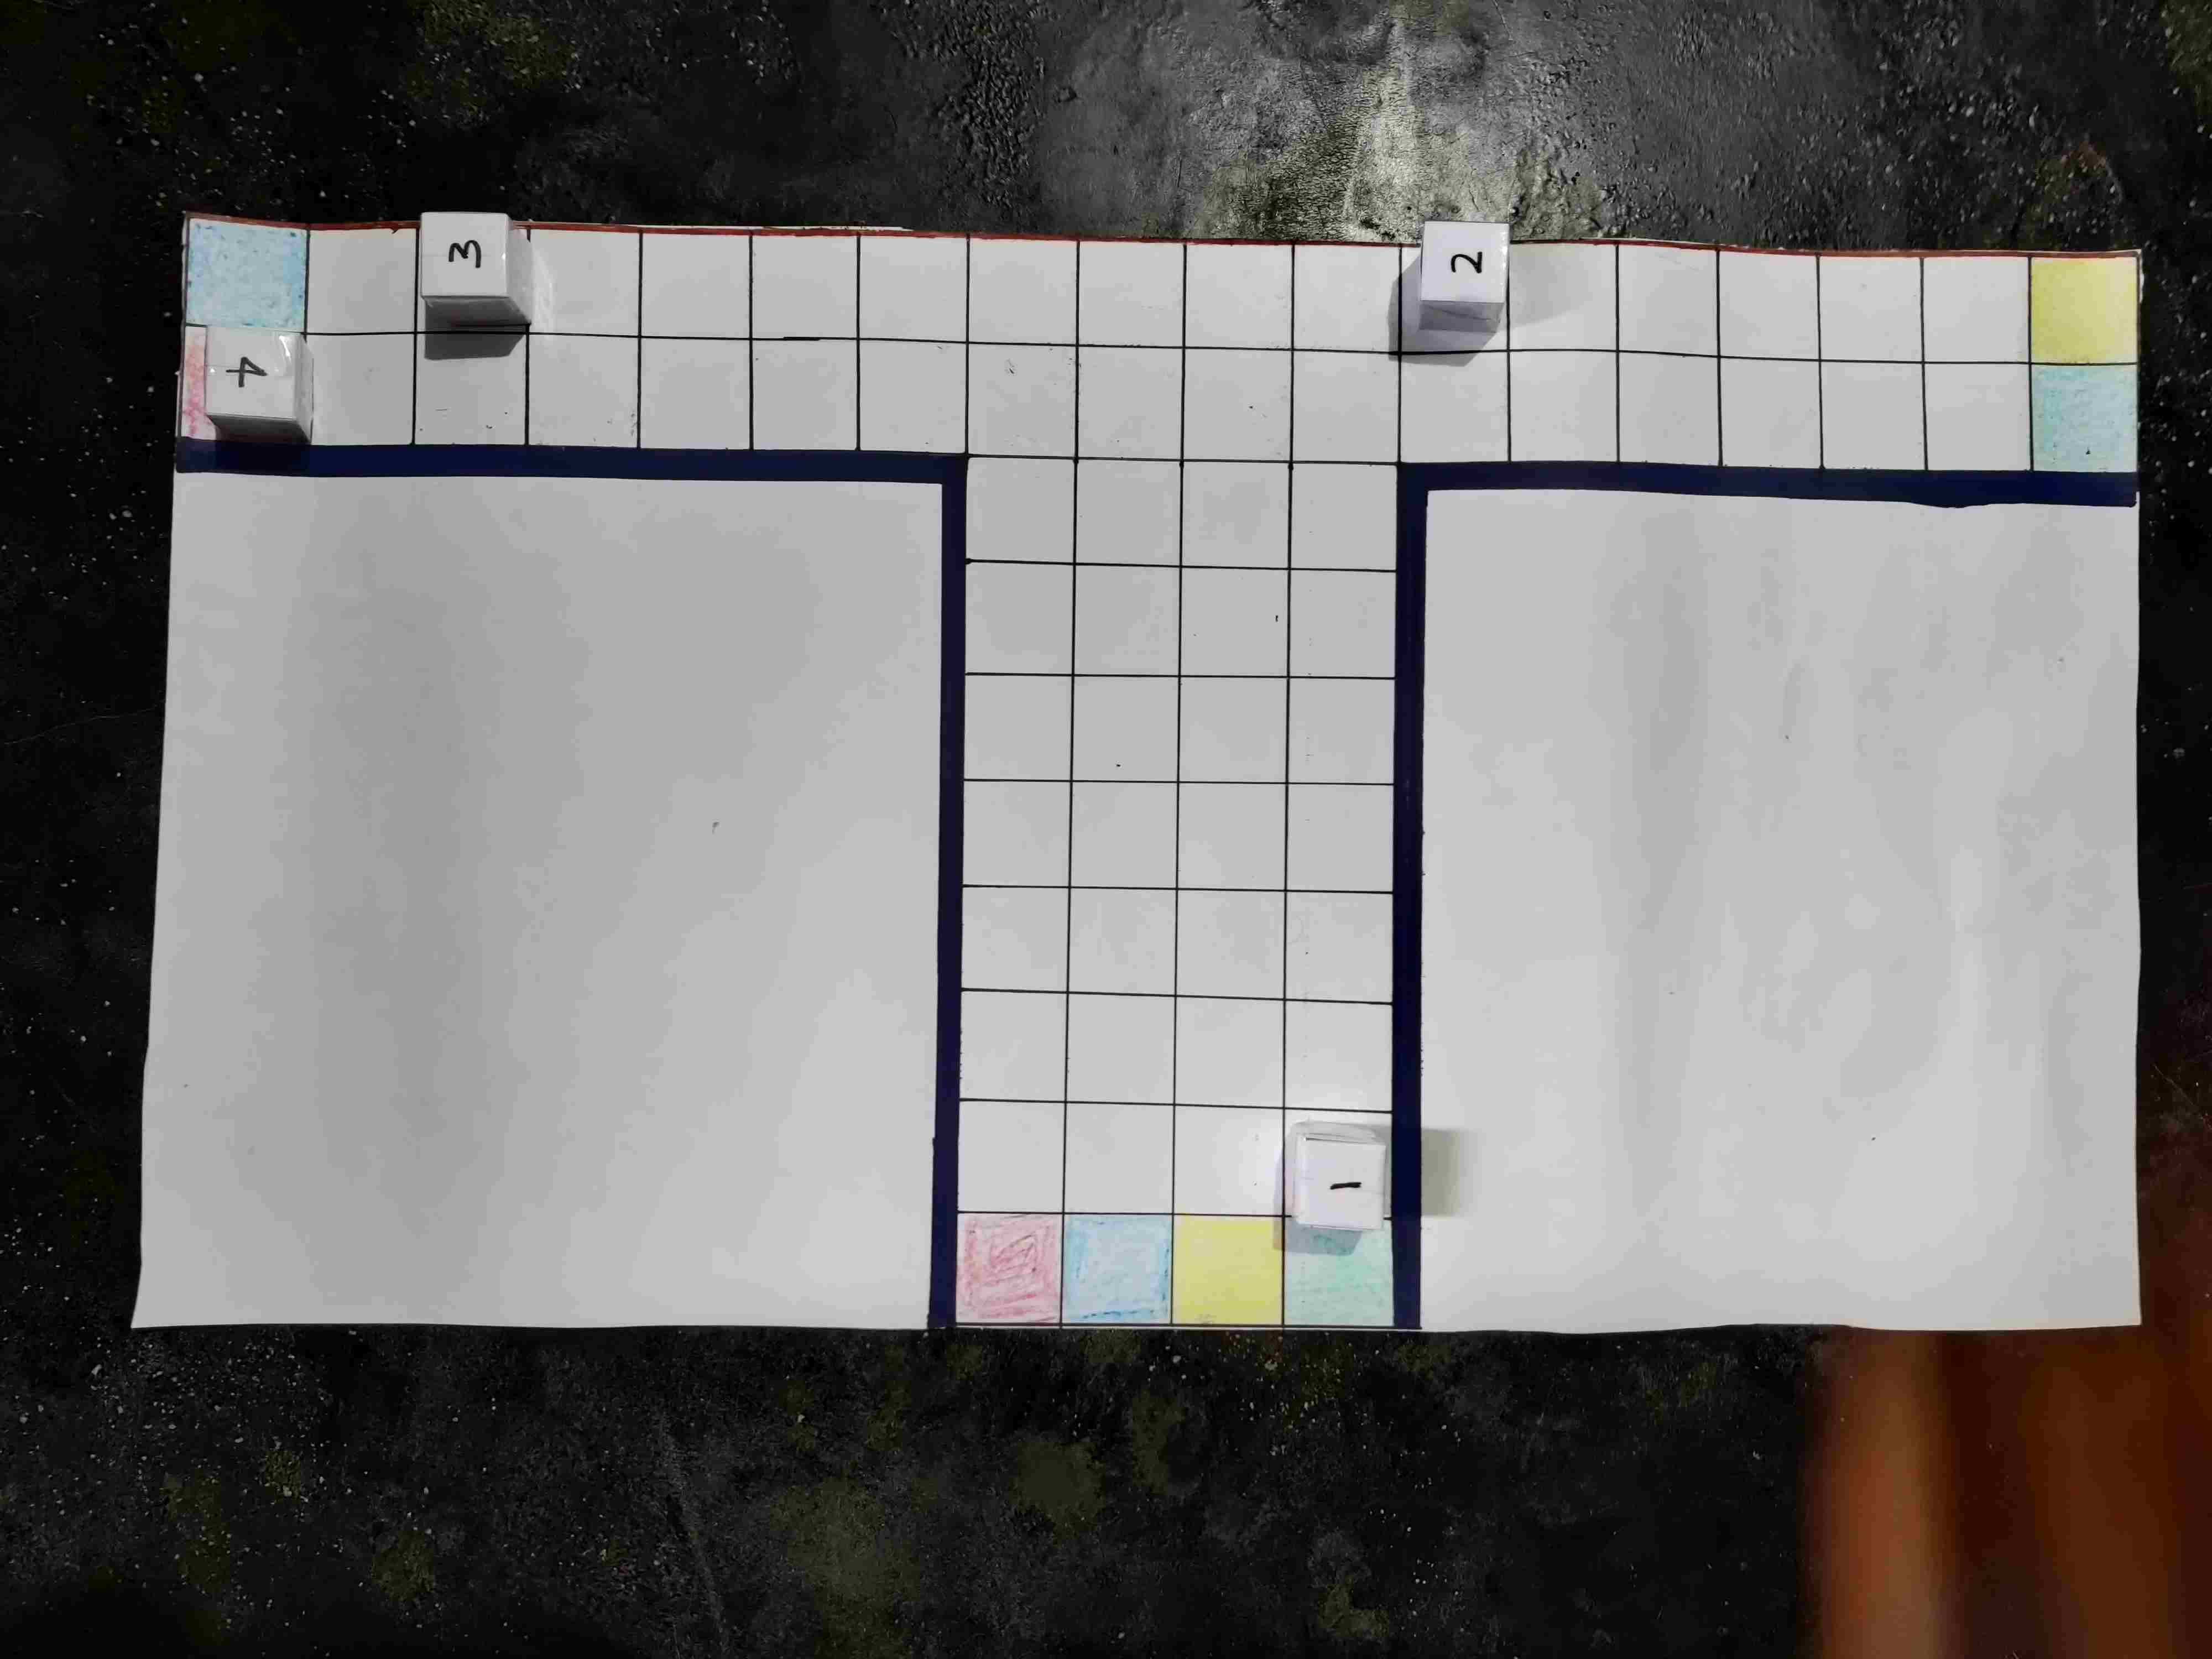arena: (172, 237, 2153, 1298)
bot: (589, 1105, 678, 1187), (1285, 1115, 1371, 1199), (1042, 1124, 1129, 1206), (1172, 1114, 1252, 1199)
